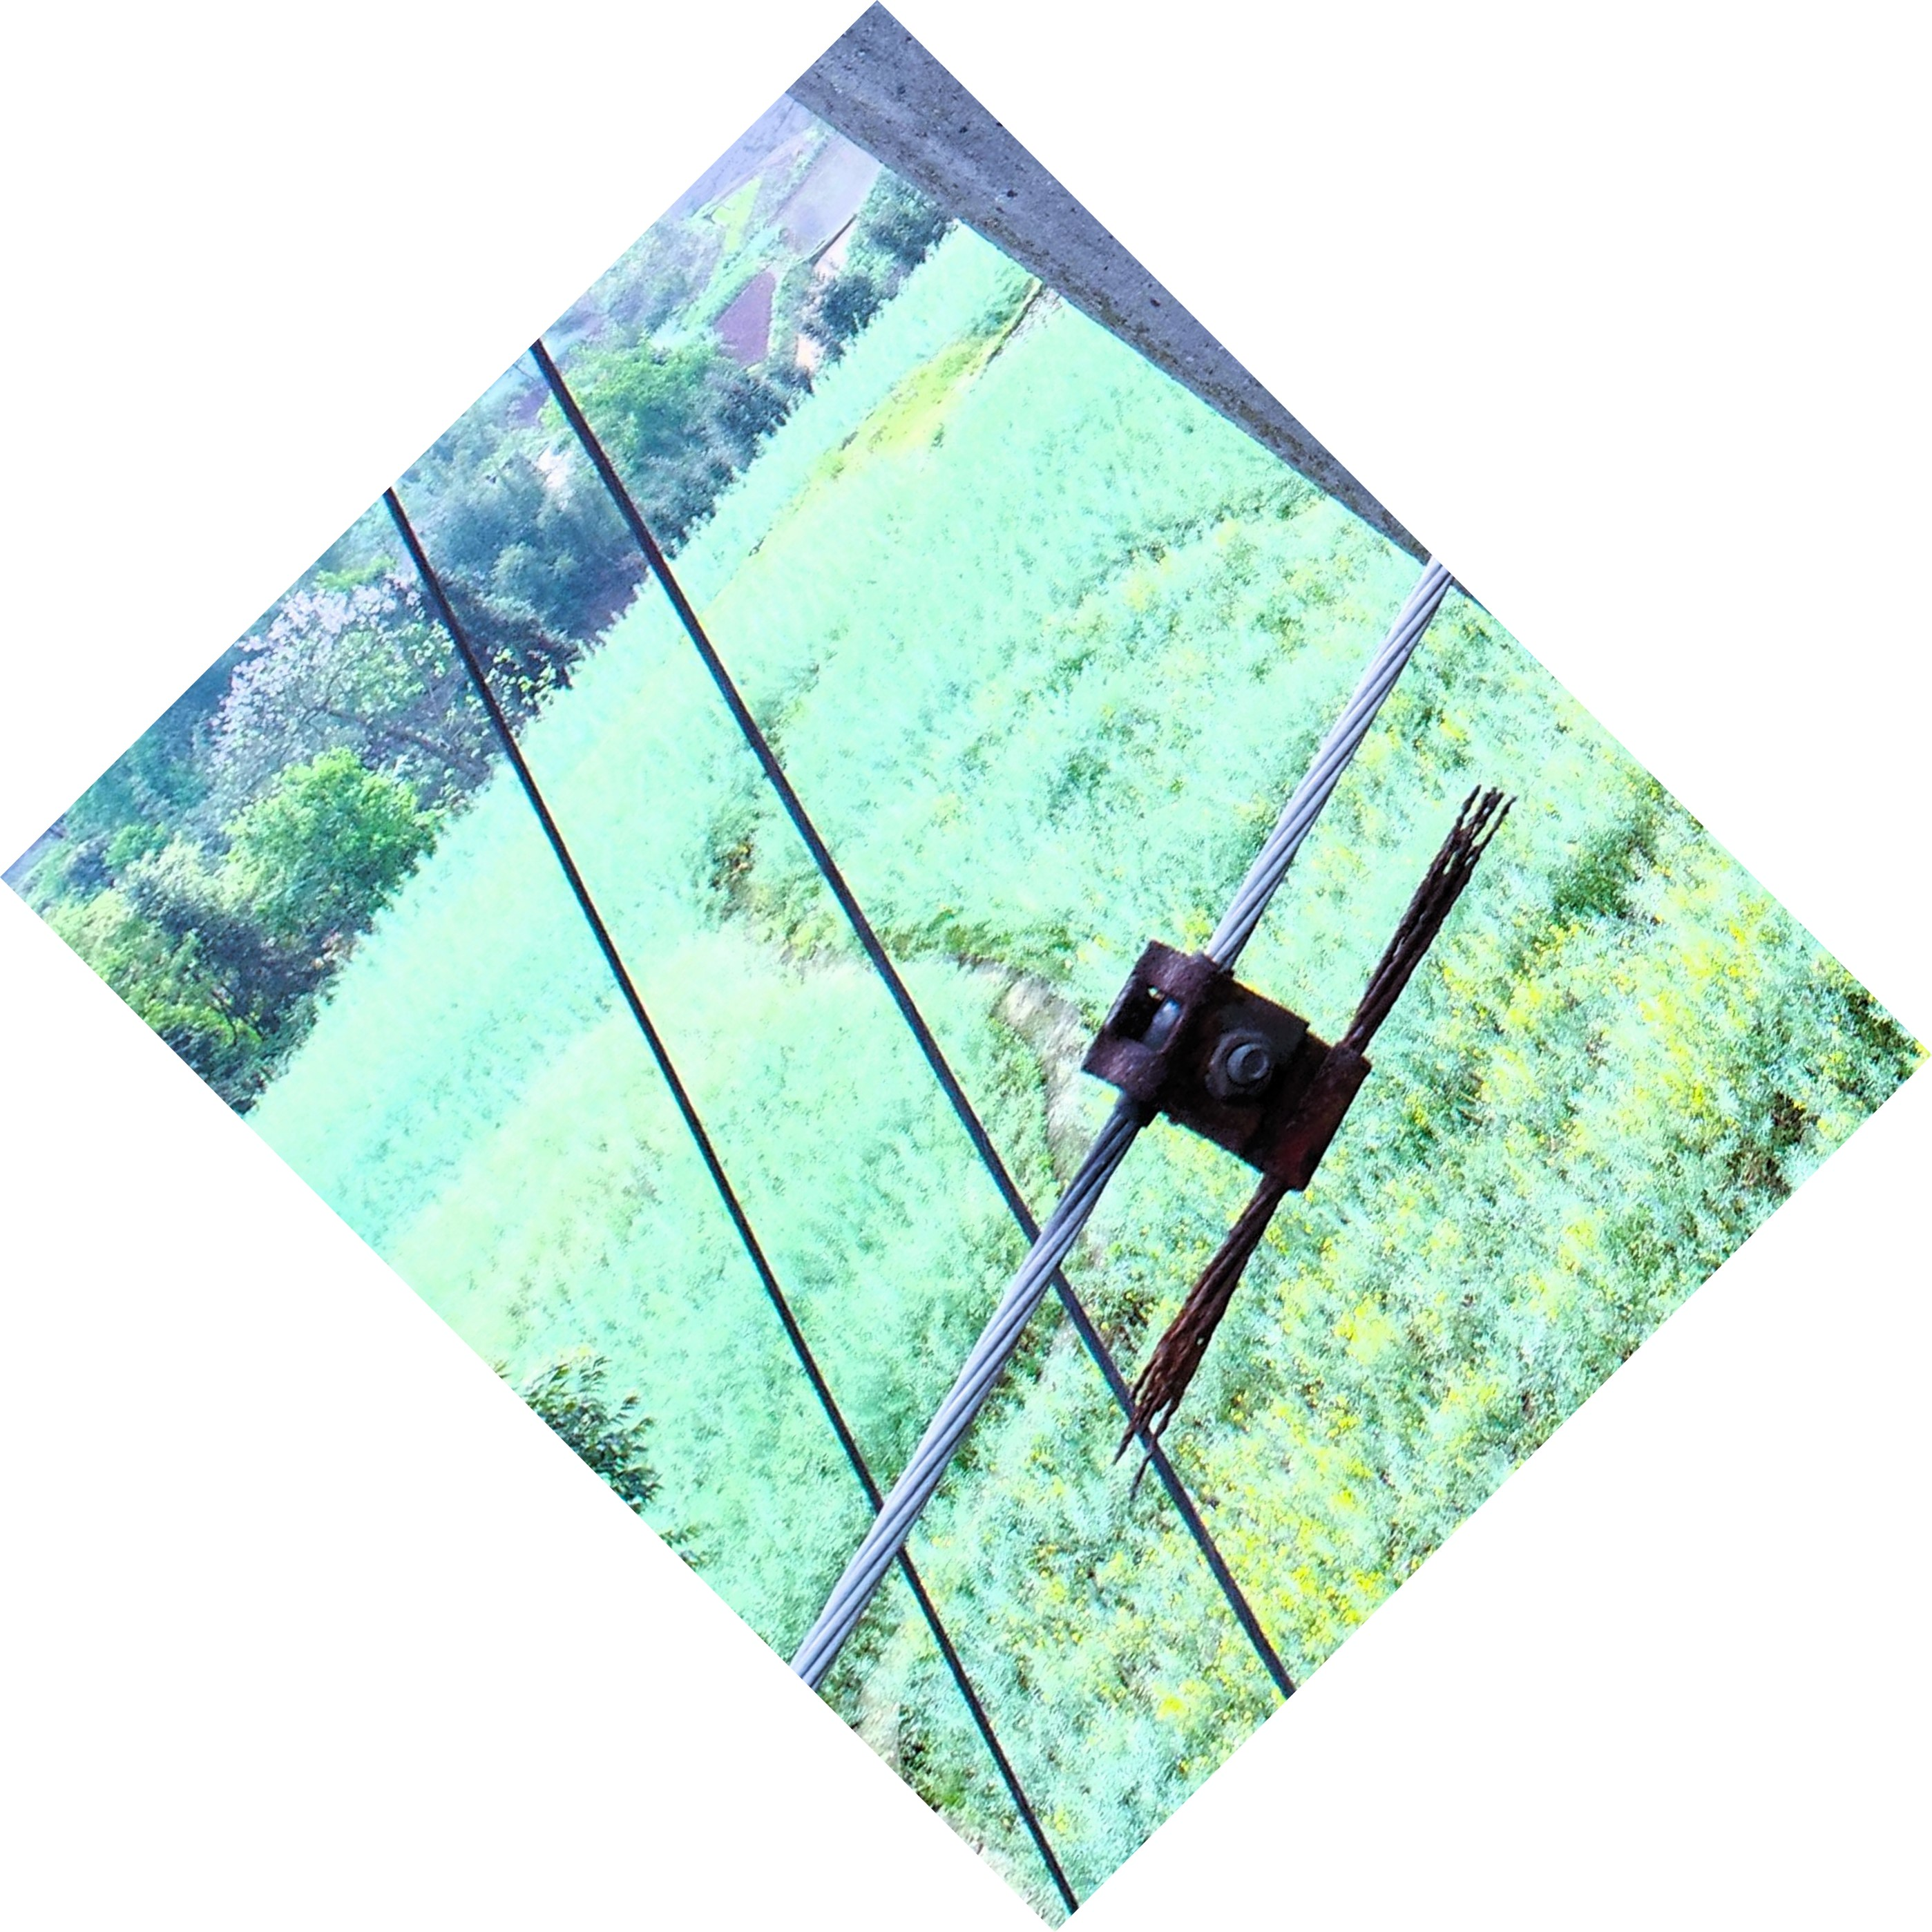Damage of shockproof hammer: (1010, 757, 1532, 1514)
